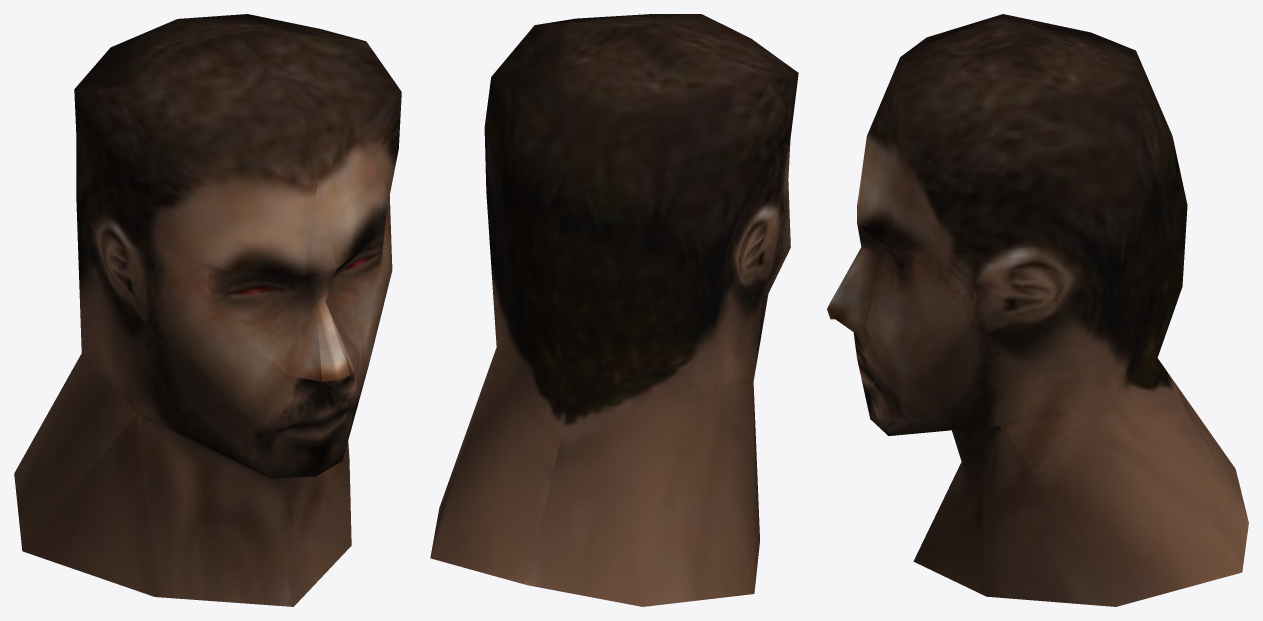
Rendered from mach-head.obj.
The picture shows the model from 3 angles, left to right: view 1: azimuth 30°, elevation 25°; view 2: azimuth 150°, elevation 25°; view 3: azimuth 270°, elevation 25°; orthographic projection. The views are drawn at different scales.
Parts seen in each view (by area): view 1: Group; view 2: Group; view 3: Group.
Part boxes in pixels (<box>): Group: <box>14,14,401,606</box>; Group: <box>430,14,798,606</box>; Group: <box>827,14,1248,606</box>.
Size of the model in its own units: 5.9 by 9.15 by 6.76.
